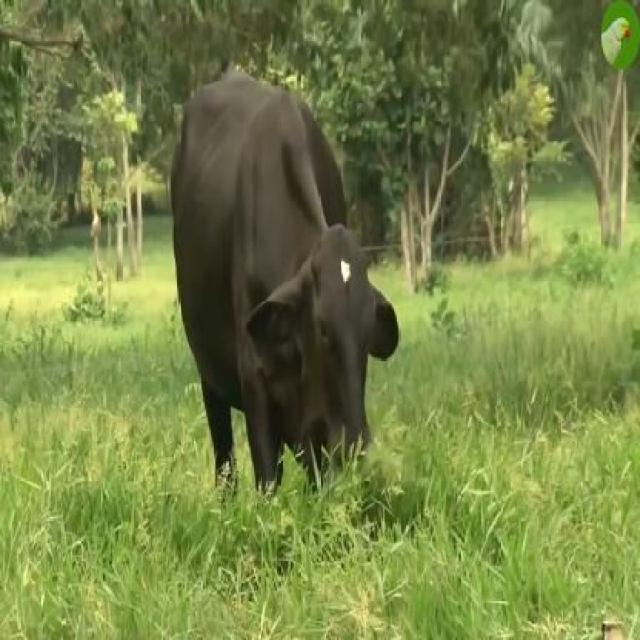Cow: (172, 66, 398, 512)
